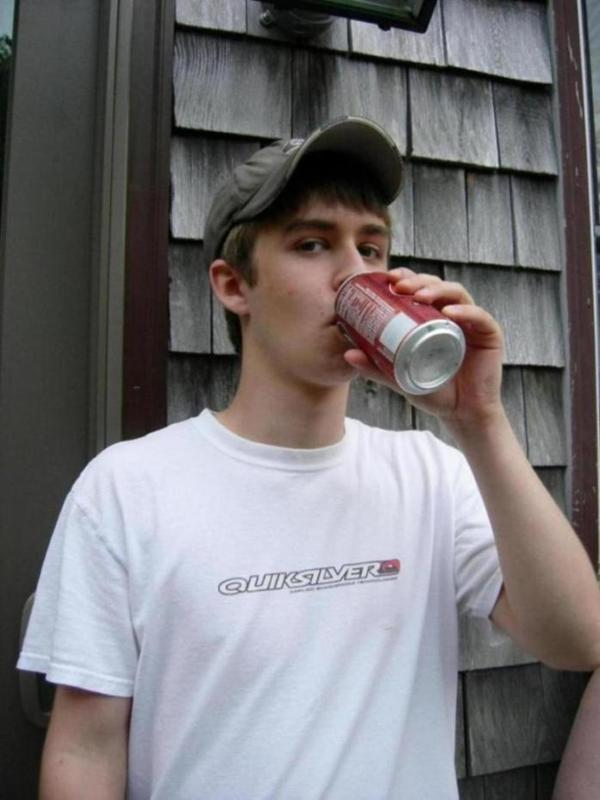person: (18, 119, 600, 799)
